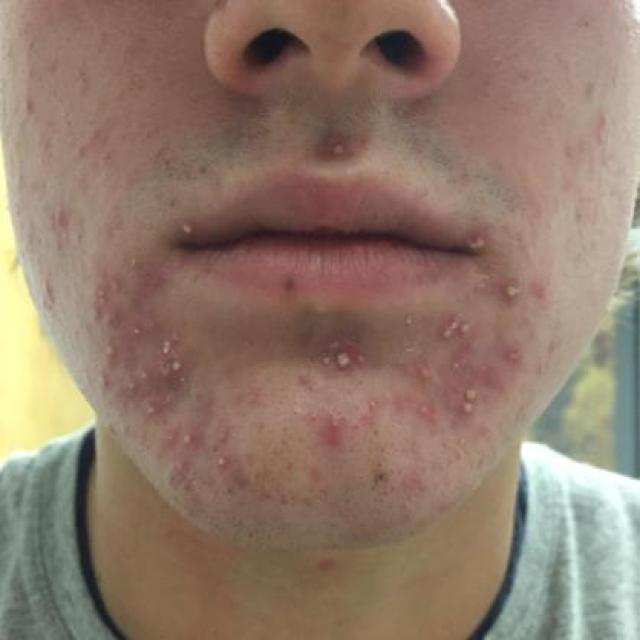papule: (526, 278, 566, 323), (309, 416, 343, 464), (142, 268, 173, 311), (403, 400, 438, 438)
pustule: (156, 215, 230, 259), (424, 314, 485, 353), (319, 116, 355, 173), (450, 375, 490, 420), (498, 267, 530, 317), (162, 348, 198, 388), (121, 362, 153, 405), (337, 348, 360, 394), (213, 436, 249, 463), (311, 344, 335, 384), (175, 432, 208, 456)
